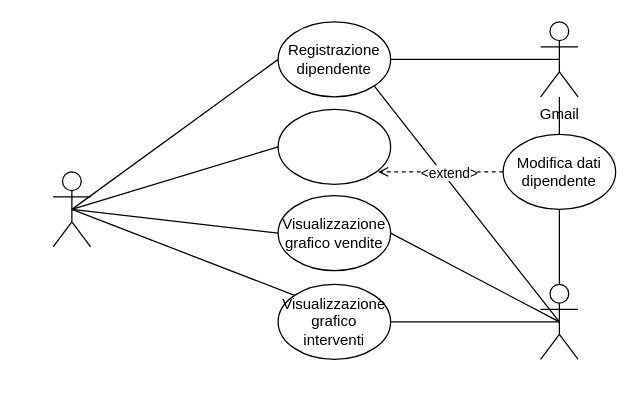
Some shapes in this 644 by 408 pixel diagram are drawn without their labels. The shapes that lost their labels are listed below. From the top down, each one's box as (x1, y1, x2, y2) in pixels, then its label:
(277, 108, 391, 184): Visualizzazione lista dipendenti
(52, 171, 91, 247): Amministratore
(539, 283, 578, 359): Ardeeno Datalayer
